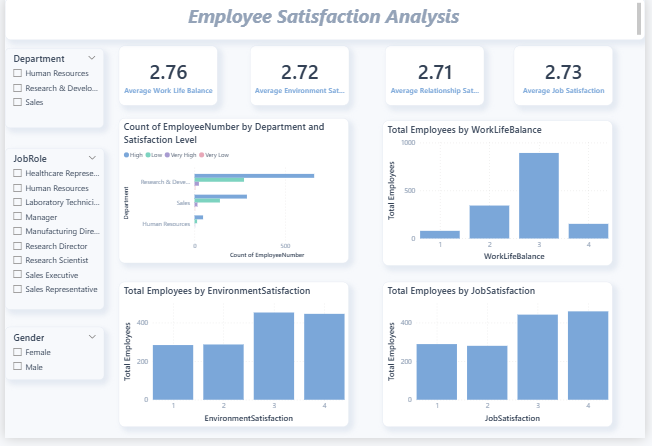

The page's visual inventory and layout, read from the dashboard file:
{"tool":"powerbi","page":{"name":"Satisfaction Analysis","canvas":[1280,880],"ordinal":2},"visuals":[{"type":"card","fields":{"Values":["HR.Average Job Satisfaction"]},"box":[1016.2,95,198.8,120],"z":0},{"type":"card","fields":{"Values":["HR.Average Work Life Balance"]},"box":[227.5,95,197.5,120],"z":1000},{"type":"card","fields":{"Values":["HR.Average Environment Satisfaction"]},"box":[488.8,93.8,198.8,120],"z":2000},{"type":"card","fields":{"Values":["HR.Average Relationship Satisfaction"]},"box":[758.8,93.8,198.8,120],"z":3000},{"type":"clusteredColumnChart","fields":{"Category":["HR.JobSatisfaction"],"Y":["HR.Total Employees"]},"box":[755,566.2,460,290],"z":4000},{"type":"clusteredColumnChart","fields":{"Category":["HR.EnvironmentSatisfaction"],"Y":["HR.Total Employees"]},"box":[227.5,566.2,460,290],"z":5000},{"type":"clusteredColumnChart","fields":{"Category":["HR.WorkLifeBalance"],"Y":["HR.Total Employees"]},"box":[755,243.8,460,290],"z":6000},{"type":"clusteredBarChart","fields":{"Category":["HR.Department"],"Y":["CountNonNull(HR.EmployeeNumber)"],"Series":["HR.Satisfaction Level"]},"box":[227.5,238.8,460,290],"z":7000},{"type":"slicer","fields":{"Values":["HR.Department"]},"box":[0,100,197.5,160],"z":8000},{"type":"slicer","fields":{"Values":["HR.Gender"]},"box":[0,658.3,198.3,106.7],"z":9000},{"type":"slicer","fields":{"Values":["HR.JobRole"]},"box":[0,300,198.3,323.3],"z":10000},{"type":"textbox","box":[0,0,1280,83.8],"z":11000},{"type":"image","box":[0,0,90,80],"z":12000}]}

Visuals, with their boxes in screenshot pixels (x1, y1, x2, y2), scaled from the page's 1280x880 canvas onto the 652x446 screenshot:
card - HR.Average Job Satisfaction: 518,48,619,109
card - HR.Average Work Life Balance: 116,48,216,109
card - HR.Average Environment Satisfaction: 249,48,350,108
card - HR.Average Relationship Satisfaction: 387,48,488,108
clusteredColumnChart - HR.JobSatisfaction x HR.Total Employees: 385,287,619,434
clusteredColumnChart - HR.EnvironmentSatisfaction x HR.Total Employees: 116,287,350,434
clusteredColumnChart - HR.WorkLifeBalance x HR.Total Employees: 385,124,619,271
clusteredBarChart - HR.Department x CountNonNull(HR.EmployeeNumber): 116,121,350,268
slicer - HR.Department: 0,51,101,132
slicer - HR.Gender: 0,334,101,388
slicer - HR.JobRole: 0,152,101,316
textbox: 0,0,651,42
image: 0,0,46,41
